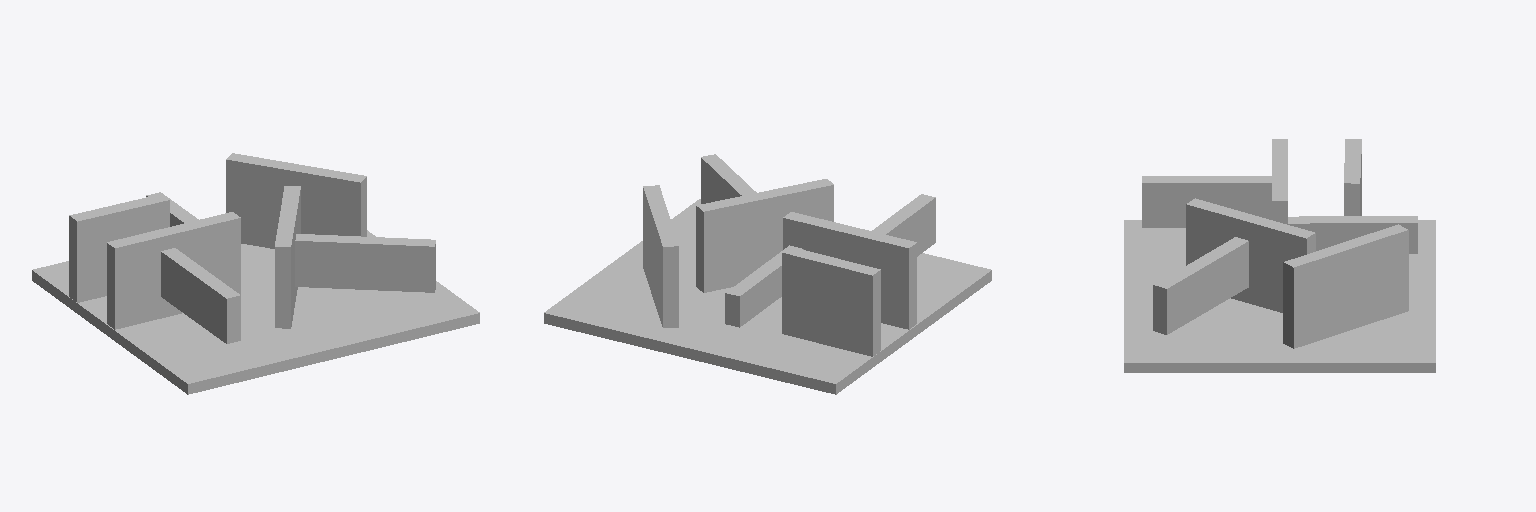
Rendered from room.obj.
3 renders of one model, left to right at view 1: azimuth 30°, elevation 25°; view 2: azimuth 150°, elevation 25°; view 3: azimuth 270°, elevation 25°, orthographic.
Parts seen in each view (by area): view 1: Cube.001_Cube.002, Cube.006_Cube.007, Cube_Cube.001, Cube.005_Cube.006, Cube.007_Cube.008, Cube.002_Cube.003, Cube.004_Cube.005; view 2: Cube.001_Cube.002, Cube.007_Cube.008, Cube.004_Cube.005, Cube_Cube.001, Cube.006_Cube.007, Cube.003_Cube.004, Cube.002_Cube.003, Cube.005_Cube.006; view 3: Cube.001_Cube.002, Cube.006_Cube.007, Cube.004_Cube.005, Cube.005_Cube.006, Cube.002_Cube.003, Cube.003_Cube.004, Cube.007_Cube.008, Cube_Cube.001.
Boxes of the visible parts, x1=… form: Cube.001_Cube.002: x1=32, y1=230, x2=479, y2=394; Cube.006_Cube.007: x1=226, y1=153, x2=366, y2=248; Cube_Cube.001: x1=107, y1=212, x2=240, y2=329; Cube.005_Cube.006: x1=295, y1=234, x2=435, y2=292; Cube.007_Cube.008: x1=69, y1=194, x2=169, y2=302; Cube.002_Cube.003: x1=161, y1=248, x2=240, y2=343; Cube.004_Cube.005: x1=275, y1=186, x2=300, y2=328; Cube.001_Cube.002: x1=544, y1=199, x2=991, y2=394; Cube.007_Cube.008: x1=782, y1=247, x2=880, y2=356; Cube.004_Cube.005: x1=696, y1=179, x2=833, y2=292; Cube_Cube.001: x1=783, y1=212, x2=916, y2=329; Cube.006_Cube.007: x1=643, y1=185, x2=678, y2=327; Cube.003_Cube.004: x1=725, y1=245, x2=803, y2=327; Cube.002_Cube.003: x1=872, y1=194, x2=935, y2=256; Cube.005_Cube.006: x1=701, y1=154, x2=756, y2=203; Cube.001_Cube.002: x1=1124, y1=220, x2=1435, y2=372; Cube.006_Cube.007: x1=1283, y1=224, x2=1408, y2=348; Cube.004_Cube.005: x1=1186, y1=198, x2=1315, y2=312; Cube.005_Cube.006: x1=1153, y1=237, x2=1248, y2=334; Cube.002_Cube.003: x1=1142, y1=176, x2=1271, y2=227; Cube.003_Cube.004: x1=1288, y1=216, x2=1417, y2=253; Cube.007_Cube.008: x1=1344, y1=139, x2=1361, y2=215; Cube_Cube.001: x1=1272, y1=139, x2=1287, y2=224.
Bounding box in the file's own units: 11.11 × 3.34 × 10.28.